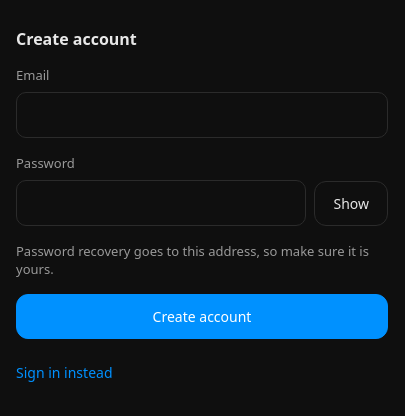
Scenario: CreateAccountScreen › says nothing answered when there is no network
Type "ana@example.com" into the field labelled "Email".
click(202, 115); type("ana@example.com")  # box [16,92,388,138]
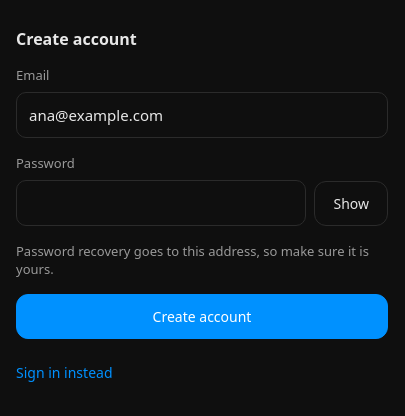
Type "a-long-enough-password" into the password field labelled "Password".
click(161, 203); type("a-long-enough-password")  # box [16,180,306,226]
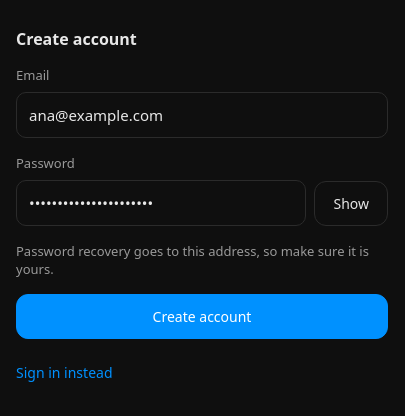
Click the button "Create account".
click(202, 316)  # box [16,294,388,339]
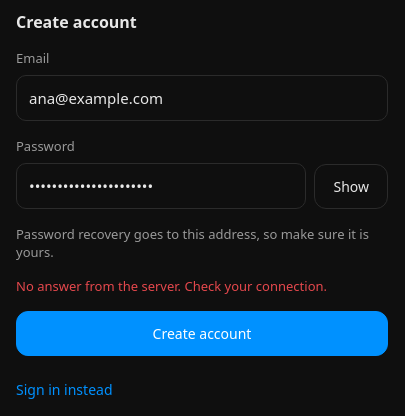
Expected: the message reads "No answer from the server. Check your connection.", [16,277,327,295]
